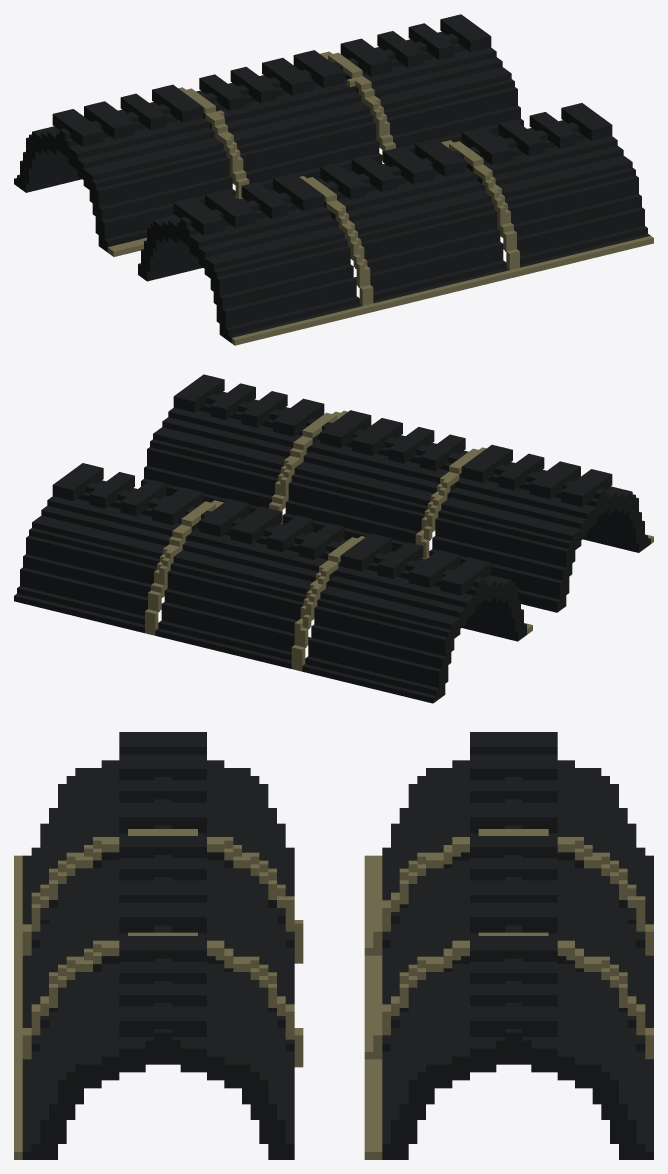
File: armguard_tire.glb
The picture shows the model from 3 angles, top to bottom: view 1: azimuth 30°, elevation 25°; view 2: azimuth 150°, elevation 25°; view 3: azimuth 270°, elevation 25°; orthographic projection. The views are drawn at different scales.
Visible parts, largest first — view 1: armguard_tire:compound; view 2: armguard_tire:compound; view 3: armguard_tire:compound.
Boxes of the visible parts, left/top/right/bottom form: armguard_tire:compound: left=14, top=14, right=653, bottom=345; armguard_tire:compound: left=14, top=374, right=653, bottom=703; armguard_tire:compound: left=14, top=732, right=653, bottom=1159.
Size of the model in its own units: 0.32 by 0.068 by 0.292.
